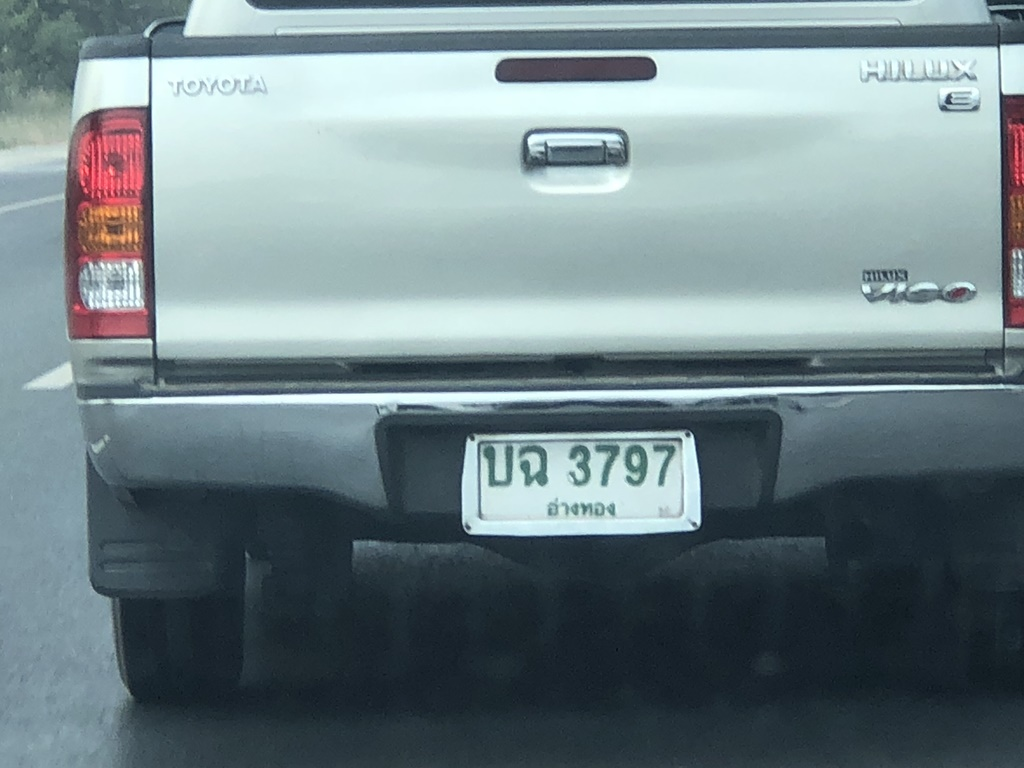plate: (461, 428, 694, 523)
